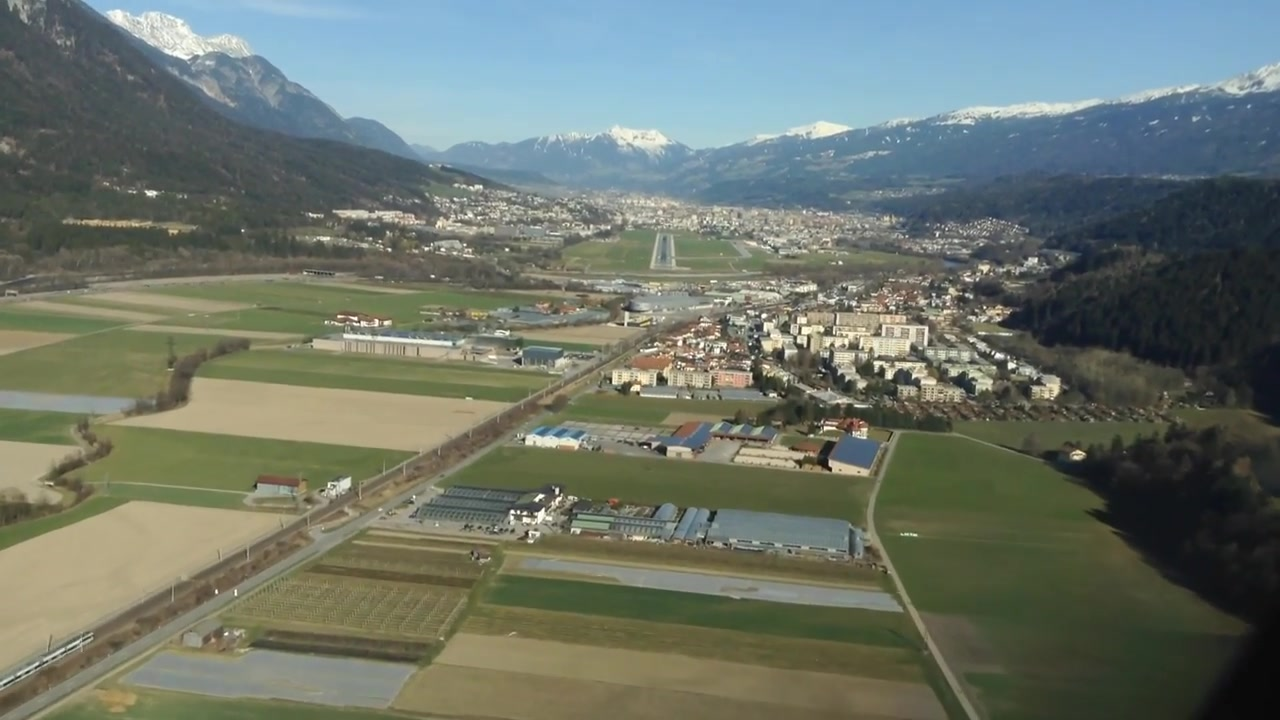runway: (648, 233, 678, 270)
